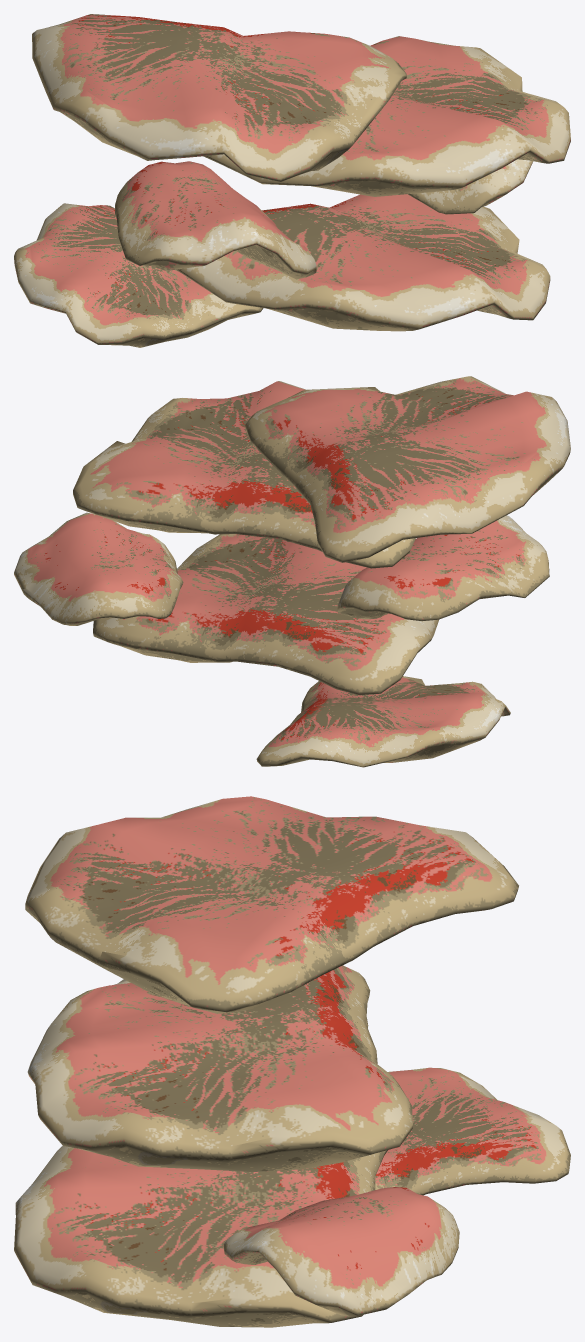
File: Mushroom_Laetiporus__go_coast.glb
3 renders of one model, top to bottom at view 1: azimuth 30°, elevation 25°; view 2: azimuth 150°, elevation 25°; view 3: azimuth 270°, elevation 25°, orthographic. The views are drawn at different scales.
Parts seen in each view (by area): view 1: Mushroom_Laetiporus; view 2: Mushroom_Laetiporus; view 3: Mushroom_Laetiporus.
Part boxes in pixels (x1,y1,x2,y2): Mushroom_Laetiporus: (14, 14, 570, 347); Mushroom_Laetiporus: (14, 376, 570, 767); Mushroom_Laetiporus: (14, 796, 570, 1327).
Bounding box in the file's own units: 1.37 × 0.767 × 1.1.
1 material, 1 textured.
